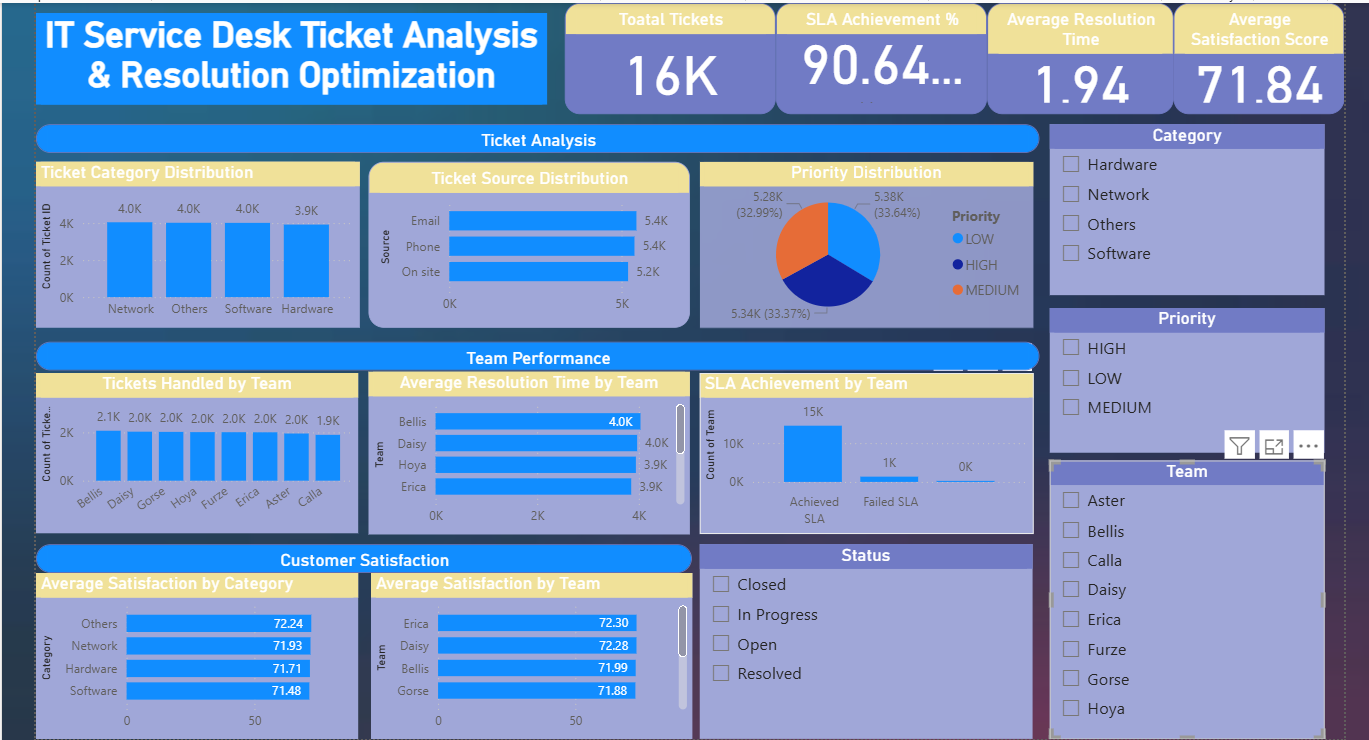

This screenshot's page, from the dashboard's own definition file:
{"tool":"powerbi","page":{"name":"Page 1","canvas":[1280,720],"ordinal":0},"visuals":[{"type":"card","title":"Toatal Tickets","fields":{"Values":["Count(tickets_cleaned.Ticket ID)"]},"box":[611.4,0,167.2,108.4],"z":0},{"type":"card","title":"Average Resolution Time","fields":{"Values":["Avg(tickets_cleaned.Resolution Time Days)"]},"box":[945.8,0,167.2,108.4],"z":1000},{"type":"card","title":"Toatal Tickets","box":[778.6,0,167.2,108.4],"z":2000},{"type":"card","title":"Toatal Tickets","fields":{"Values":["Avg(tickets_cleaned.Satisfactory Score)"]},"box":[1113,0,167.2,108.4],"z":3000},{"type":"columnChart","title":"Ticket Category Distribution","fields":{"Y":["CountNonNull(tickets_cleaned.Ticket ID)"],"Category":["tickets_cleaned.Category"]},"box":[77.1,156.8,316.1,189.4],"z":4000},{"type":"pieChart","title":"Priority Distribution","fields":{"Y":["CountNonNull(tickets_cleaned.Ticket ID)"],"Category":["tickets_cleaned.Priority"]},"box":[896.2,156.8,338.4,203.8],"z":5000},{"type":"barChart","title":"Ticket Source Distribution","fields":{"Y":["CountNonNull(tickets_cleaned.Ticket ID)"],"Category":["tickets_cleaned.Source"]},"box":[472.9,156.8,334.4,203.8],"z":6000},{"type":"lineChart","title":"Tickets Handled by Team","fields":{"Y":["CountNonNull(tickets_cleaned.Ticket ID)"],"Category":["tickets_cleaned.Team"]},"box":[49.6,397.1,316.1,192],"z":7000},{"type":"barChart","title":"Average Resolution Time by Team","fields":{"Y":["Sum(tickets_cleaned.Resolution Time Days)"],"Category":["tickets_cleaned.Team"]},"box":[444.2,410.2,334.4,192],"z":8000},{"type":"columnChart","title":"SLA Achievement by Team","fields":{"Category":["tickets_cleaned.Resolution SLA"],"Y":["CountNonNull(tickets_cleaned.Team)"]},"box":[832.2,394.5,338.4,198.6],"z":9000},{"type":"pieChart","title":"Average Satisfaction by Category","fields":{"Category":["tickets_cleaned.Category"],"Y":["Avg(tickets_cleaned.Satisfactory Score)"]},"box":[34,569.6,316.1,150.2],"z":10000},{"type":"columnChart","title":"Average Satisfaction by Team","fields":{"Category":["tickets_cleaned.Team"],"Y":["Avg(tickets_cleaned.Satisfactory Score)"]},"box":[462.5,569.6,334.4,150.2],"z":11000}]}

Visuals, with their boxes on the page's 1280x720 design canvas (x1, y1, x2, y2). These are canvas units, not pixel positions in the 1369x740 screenshot, which may show the page scaled, cropped or inside an application window:
"Toatal Tickets" card: <bbox>611, 0, 779, 108</bbox>
"Average Resolution Time" card: <bbox>946, 0, 1113, 108</bbox>
"Toatal Tickets" card: <bbox>779, 0, 946, 108</bbox>
"Toatal Tickets" card: <bbox>1113, 0, 1280, 108</bbox>
"Ticket Category Distribution" columnChart: <bbox>77, 157, 393, 346</bbox>
"Priority Distribution" pieChart: <bbox>896, 157, 1235, 361</bbox>
"Ticket Source Distribution" barChart: <bbox>473, 157, 807, 361</bbox>
"Tickets Handled by Team" lineChart: <bbox>50, 397, 366, 589</bbox>
"Average Resolution Time by Team" barChart: <bbox>444, 410, 779, 602</bbox>
"SLA Achievement by Team" columnChart: <bbox>832, 394, 1171, 593</bbox>
"Average Satisfaction by Category" pieChart: <bbox>34, 570, 350, 720</bbox>
"Average Satisfaction by Team" columnChart: <bbox>462, 570, 797, 720</bbox>
